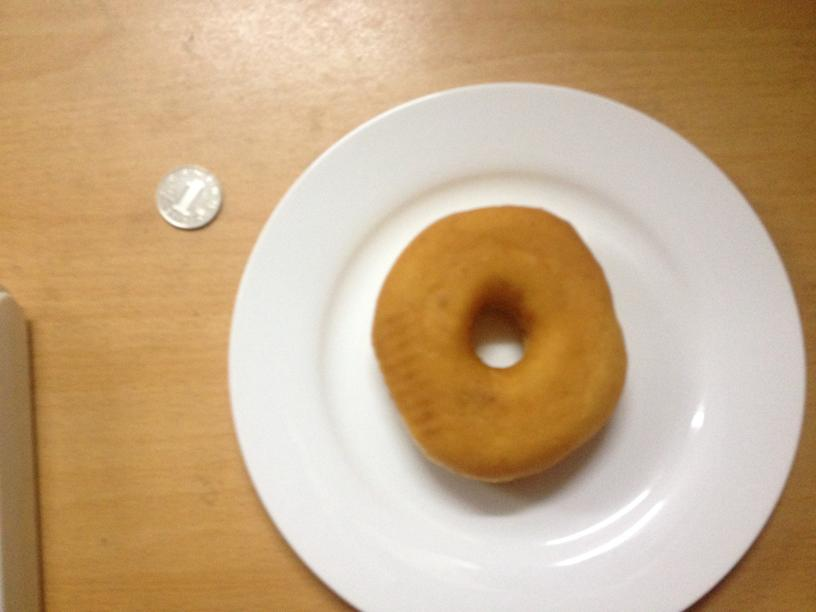coin: (156, 167, 220, 229)
doughnut: (376, 201, 629, 483)
